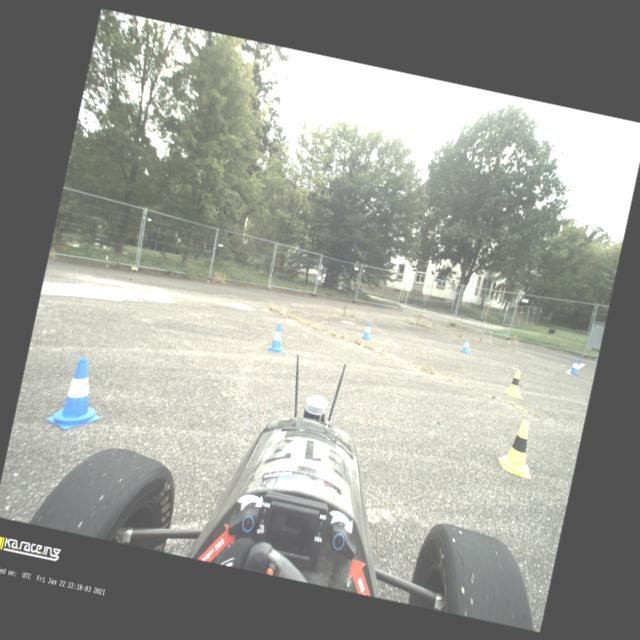blue_cone: (46, 352, 111, 437), (266, 322, 288, 354), (362, 321, 374, 340), (568, 358, 580, 375), (460, 338, 472, 353)
yellow_cone: (495, 417, 541, 479), (502, 368, 526, 398)
